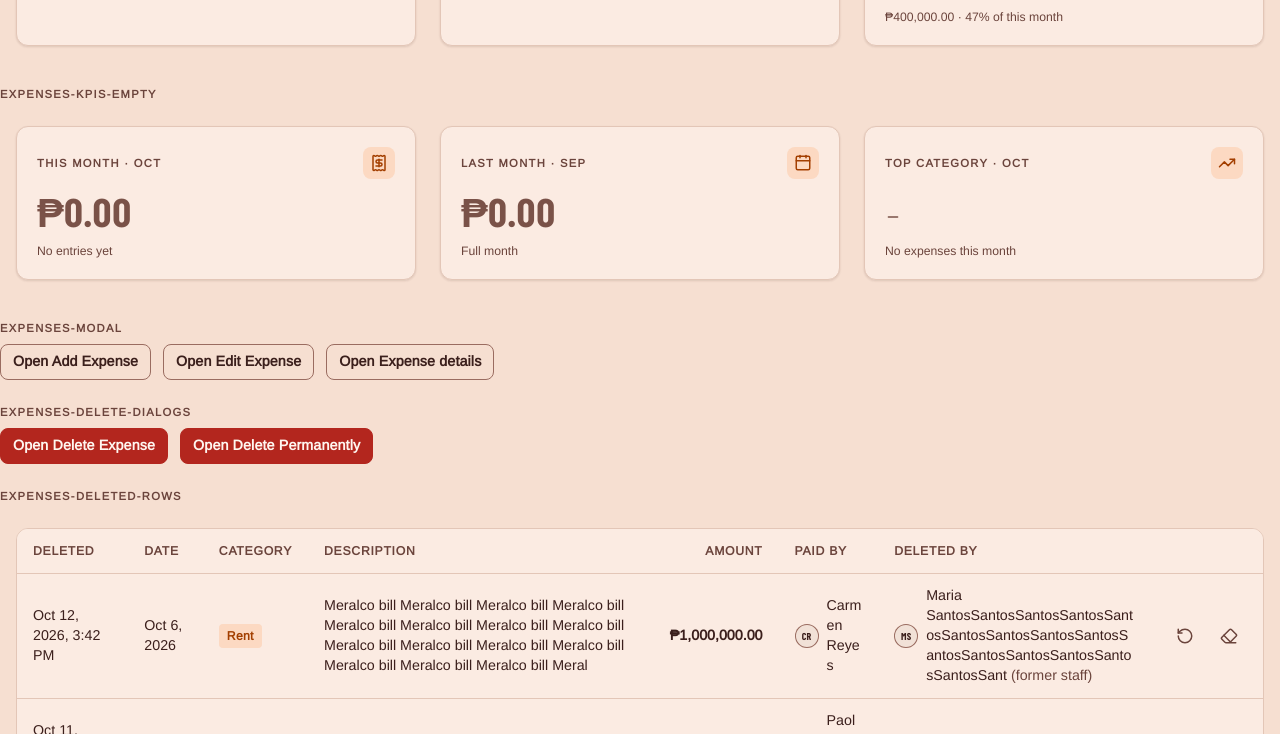
Test: Phase6Demos: the expense modal and the delete dialogs are live › opens the E2 modal in edit mode with the stale save banner, the access note and who recorded and changed it; Load Latest clears the banner
The image size is (1280, 734).
(page scrolled)
Click the button "Open Edit Expense" at coordinates (239, 362), box [163,344,314,380]
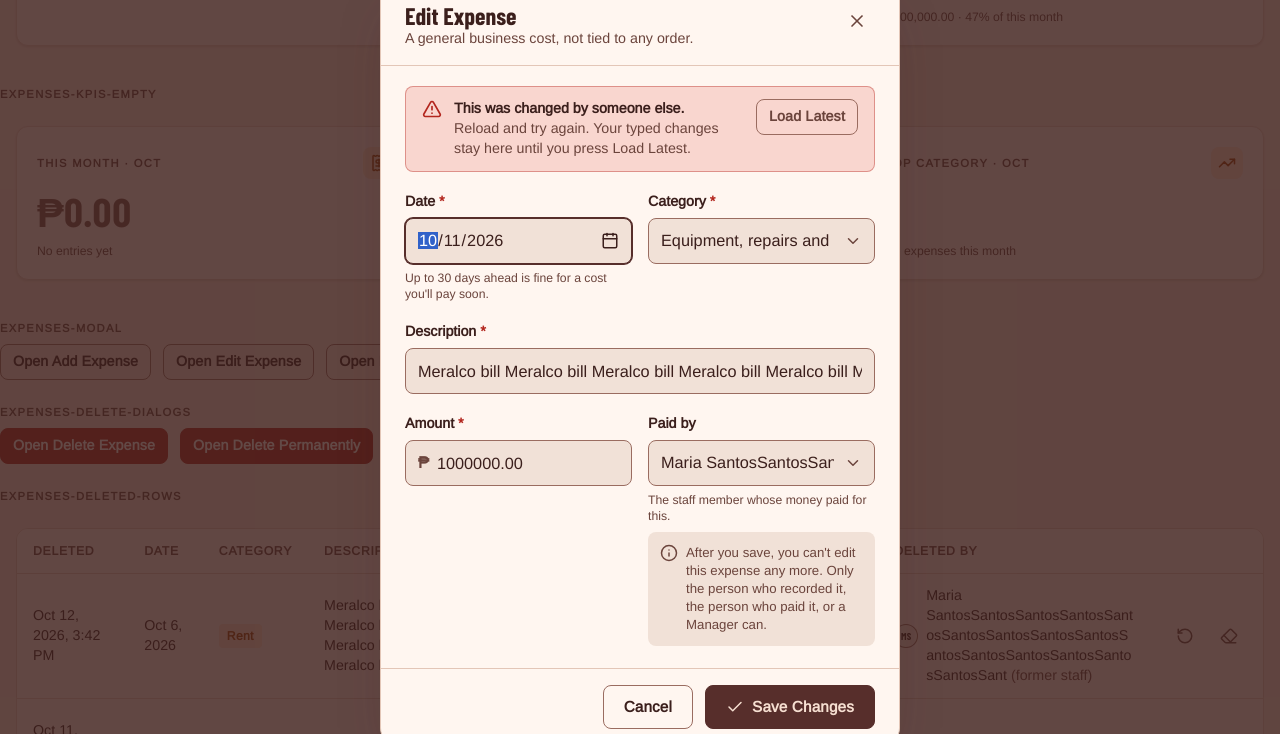
Expected: the text "This was changed by someone else." is shown, [454,101,684,116]
Expected: the text "After you save, you can't edit this expense any more" is shown, [686,546,856,632]
Expected: the button "Save Changes" is shown, [705,685,875,729]
Click the button "Load Latest" at coordinates (807, 117), box [756,99,858,135]
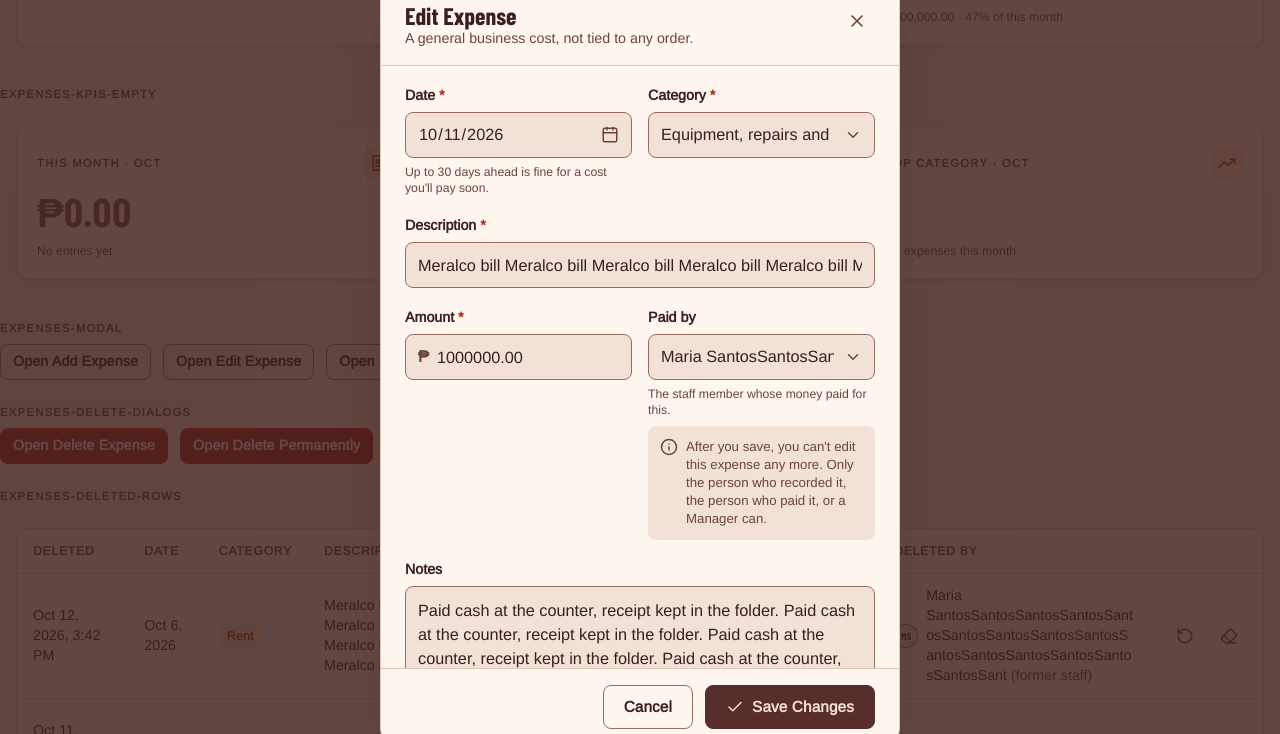
Expected: the text "This was changed by someone else." is gone
